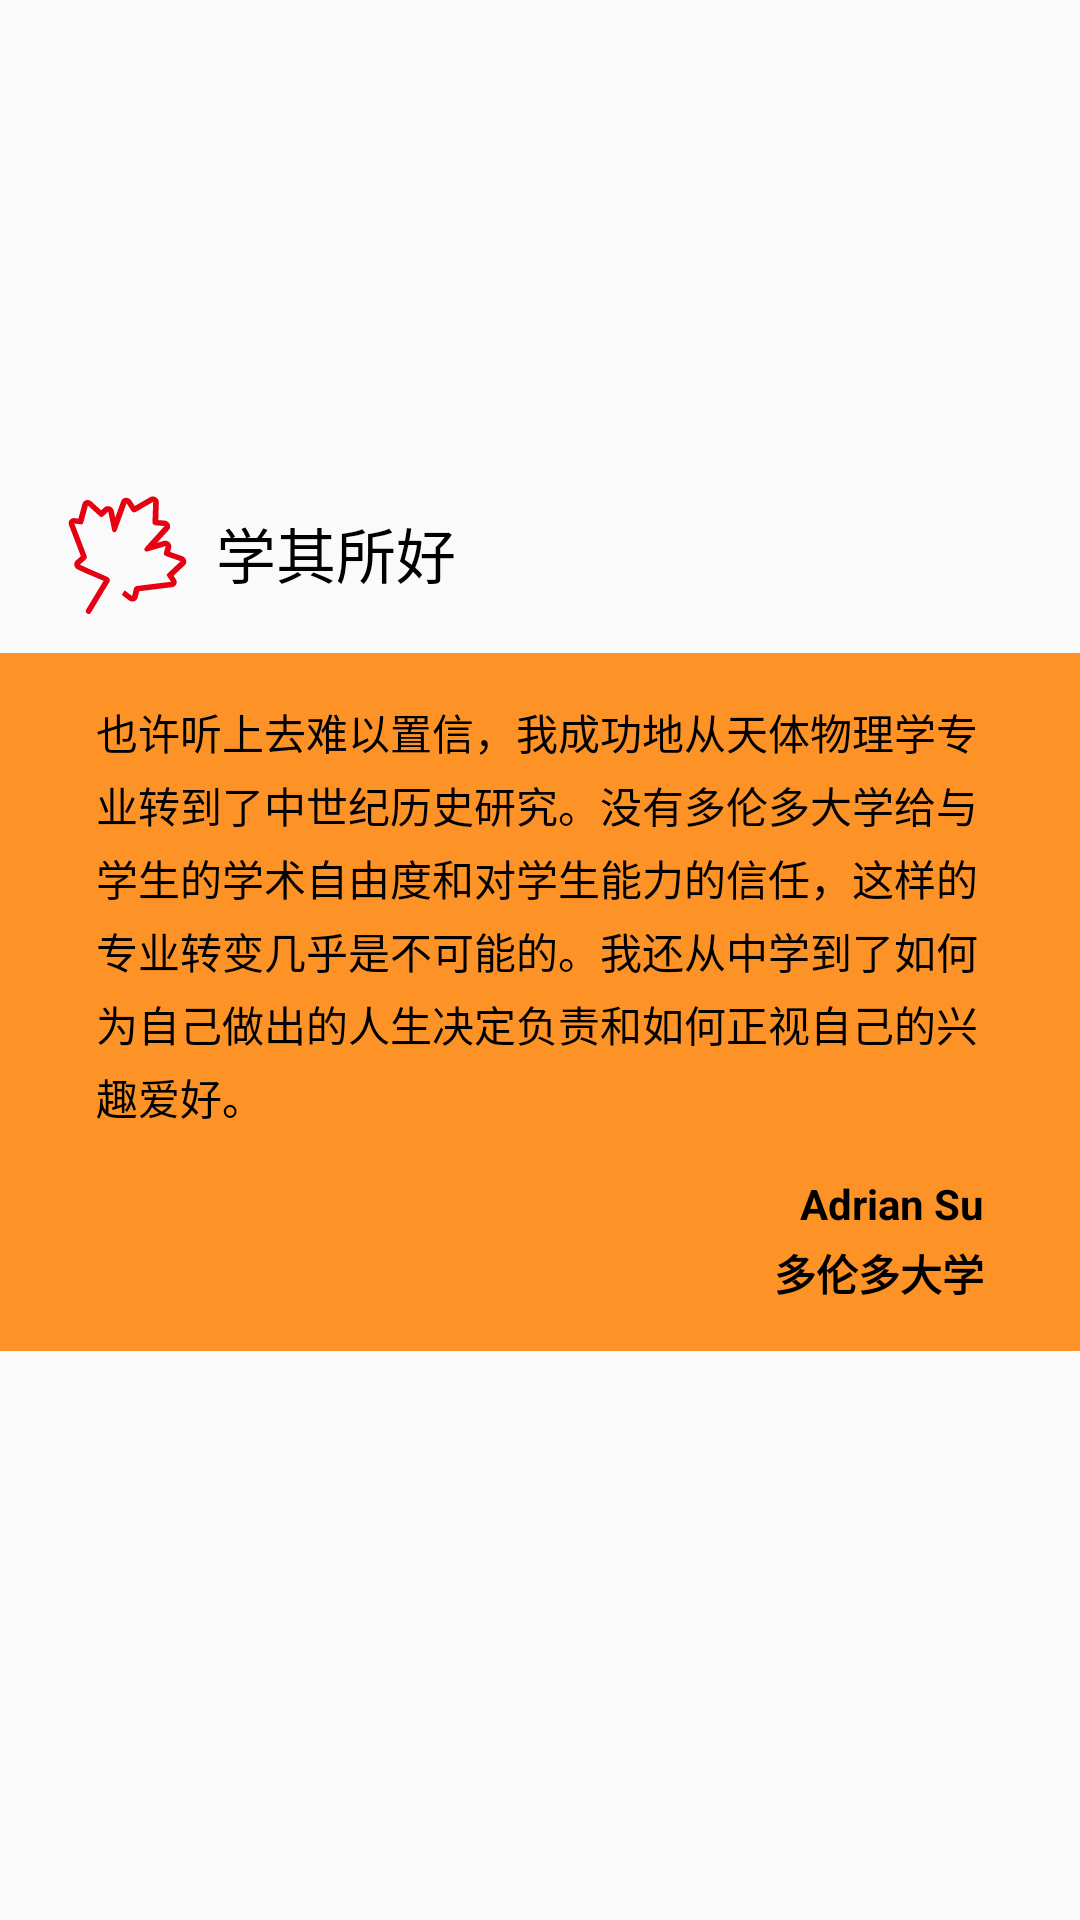

Icon click points for this 1080×1920 phone screenshot, format point (x, y):
leaf: point (127, 555)
